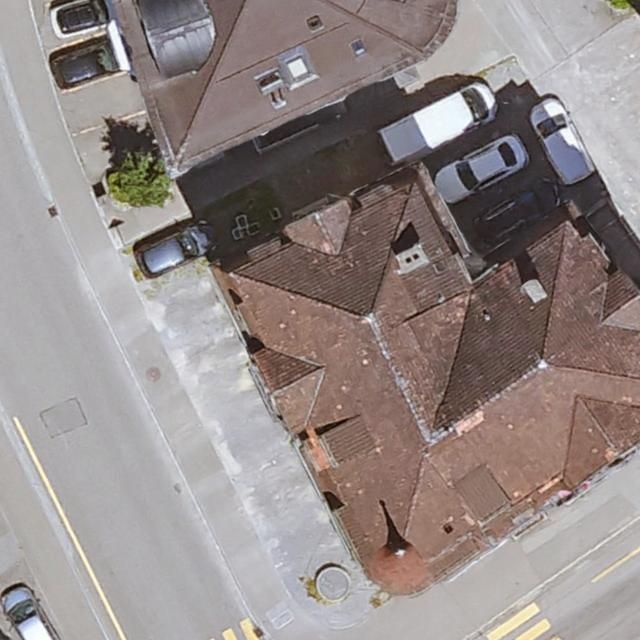tree: (107, 150, 175, 204)
